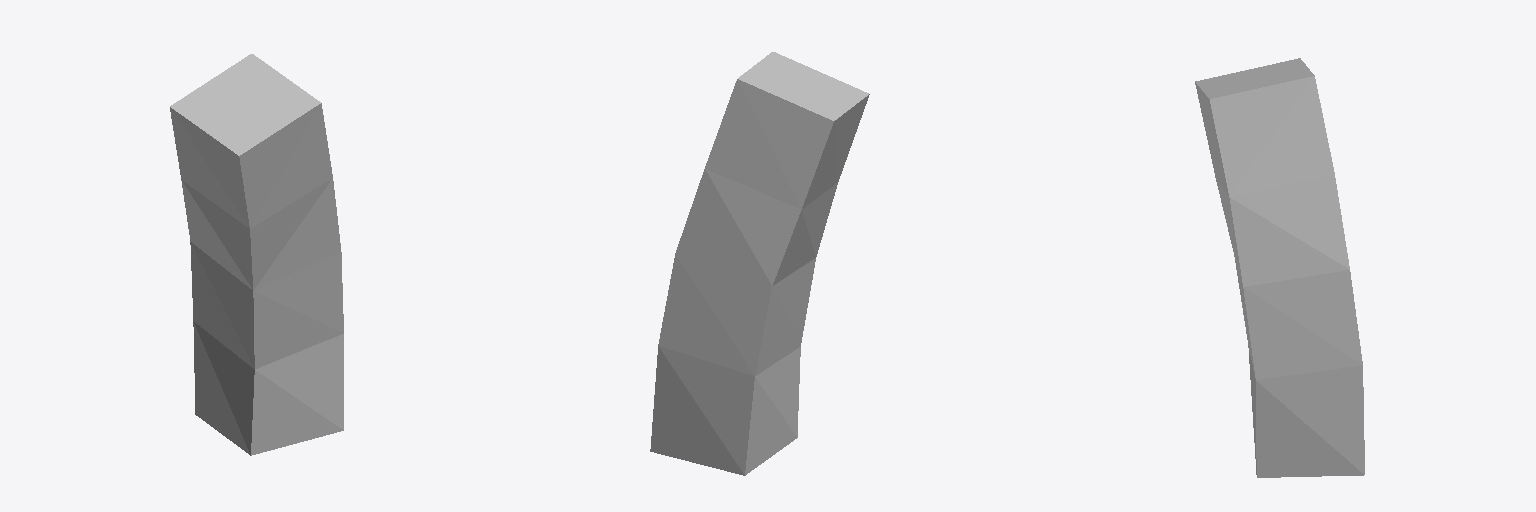
Rendered from wiggle_000009.obj.
3 views of the same model, side by side, from view 1: azimuth 30°, elevation 25°; view 2: azimuth 150°, elevation 25°; view 3: azimuth 270°, elevation 25° (orthographic).
Visible parts, largest first — view 1: Cube; view 2: Cube; view 3: Cube.
Part boxes in pixels (x1,y1,x2,y2): Cube: (170,54,343,455); Cube: (650,52,869,475); Cube: (1195,58,1364,477).
Bounding box in the file's own units: 3.25 × 7.6 × 3.14.